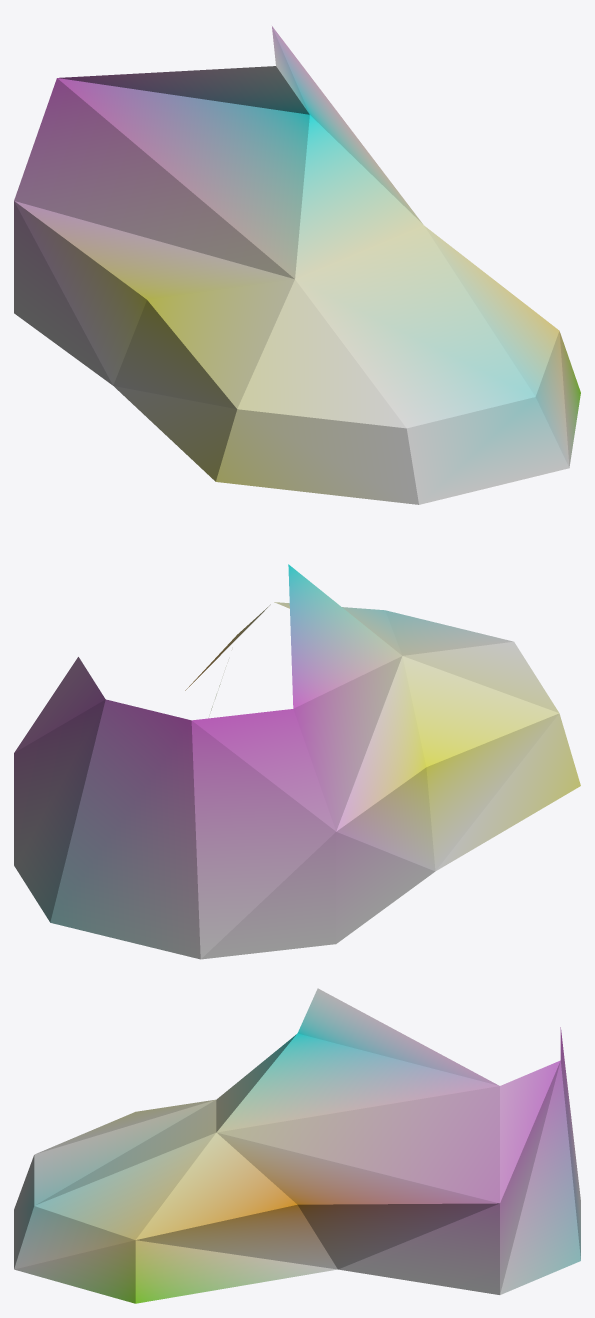
3 views of the same model, one above another, from view 1: azimuth 30°, elevation 25°; view 2: azimuth 150°, elevation 25°; view 3: azimuth 270°, elevation 25° (orthographic). The views are drawn at different scales.
Visible parts, largest first — view 1: model_1108; view 2: model_1108; view 3: model_1108.
Boxes of the visible parts, <box> form: model_1108: <box>14,26,580,504</box>; model_1108: <box>14,564,580,959</box>; model_1108: <box>14,988,580,1303</box>.
Size of the model in its own units: 17 by 13 by 28.
